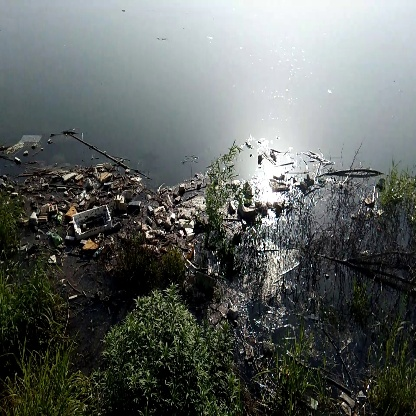branch: (70, 130, 132, 170)
plastic-garbage: (67, 207, 120, 239)
